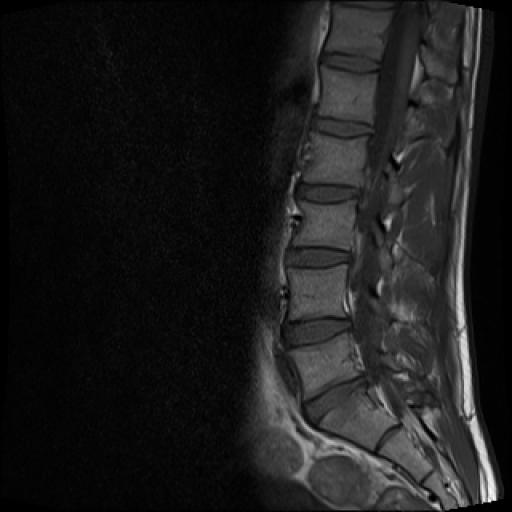L1: (319, 65, 378, 124)
L2: (302, 132, 368, 186)
L3: (294, 200, 354, 250)
L4: (287, 265, 346, 320)
L5: (286, 332, 360, 400)
S1: (316, 387, 398, 450)
